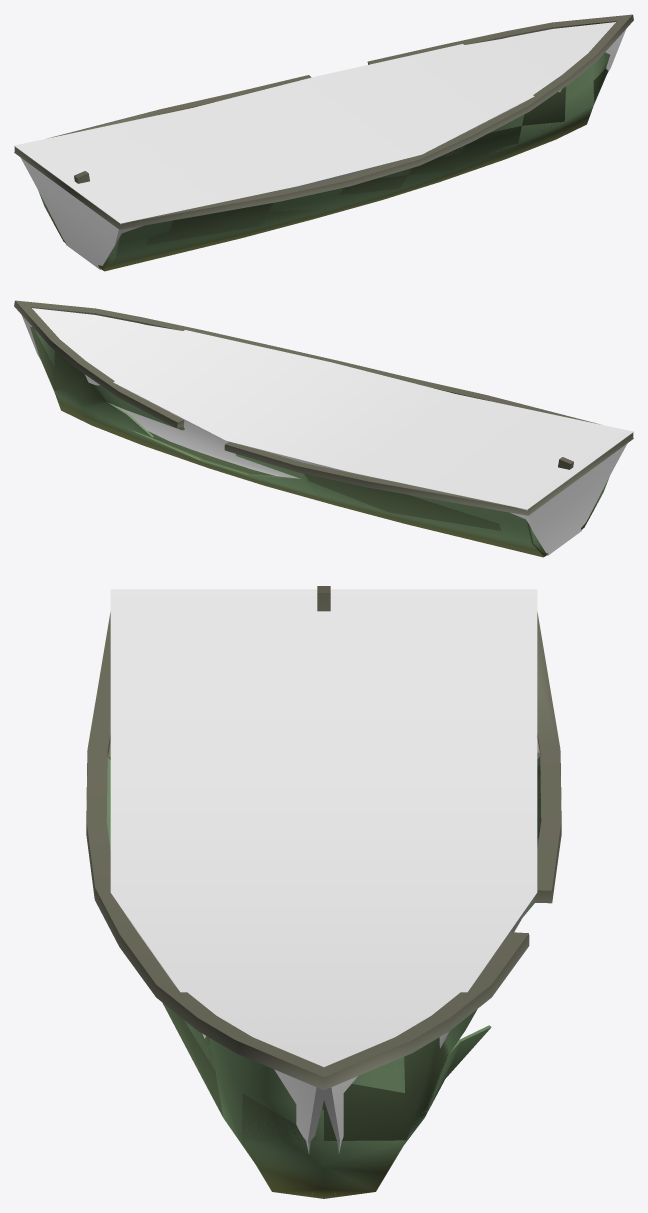
File: eca_fv_shore_boat_damaged.DAE
3 renders of one model, top to bottom at view 1: azimuth 30°, elevation 25°; view 2: azimuth 150°, elevation 25°; view 3: azimuth 270°, elevation 25°, orthographic. The views are drawn at different scales.
Parts seen in each view (by area): view 1: Colmesh-1, eca_fv_shore_boat_damaged120, eca_fv_shore_boat_damaged30; view 2: Colmesh-1, eca_fv_shore_boat_damaged120, eca_fv_shore_boat_damaged30; view 3: Colmesh-1, eca_fv_shore_boat_damaged120, eca_fv_shore_boat_damaged30.
Part boxes in pixels (x1=…): Colmesh-1: x1=14, y1=22, x2=626, y2=269; eca_fv_shore_boat_damaged120: x1=14, y1=14, x2=633, y2=271; eca_fv_shore_boat_damaged30: x1=45, y1=68, x2=607, y2=254; Colmesh-1: x1=21, y1=308, x2=633, y2=555; eca_fv_shore_boat_damaged120: x1=14, y1=300, x2=633, y2=557; eca_fv_shore_boat_damaged30: x1=30, y1=326, x2=608, y2=542; Colmesh-1: x1=110, y1=589, x2=537, y2=1193; eca_fv_shore_boat_damaged120: x1=86, y1=586, x2=561, y2=1198; eca_fv_shore_boat_damaged30: x1=162, y1=757, x2=541, y2=1140.
Size of the model in its own units: 6.2 by 2.25 by 1.14.
